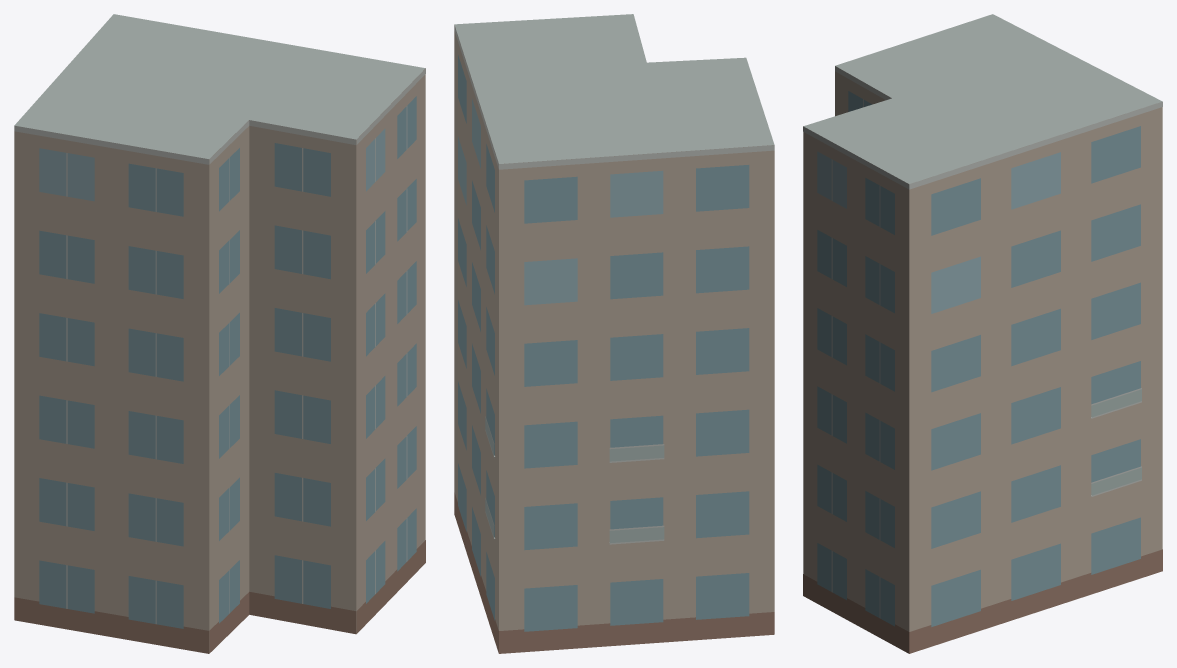
The model's file is survey-upis-32683242.glb.
The picture shows the model from 3 angles, left to right: view 1: azimuth 30°, elevation 25°; view 2: azimuth 150°, elevation 25°; view 3: azimuth 270°, elevation 25°; orthographic projection. The views are drawn at different scales.
Visible parts, largest first — view 1: survey-upis-32683242.tmp; view 2: survey-upis-32683242.tmp; view 3: survey-upis-32683242.tmp.
Boxes of the visible parts, x1,y1,x2,y2 form: survey-upis-32683242.tmp: (14,14,425,653); survey-upis-32683242.tmp: (454,14,774,653); survey-upis-32683242.tmp: (803,14,1162,653).
Bounding box in the file's own units: 16.45 × 21.15 × 14.68.
